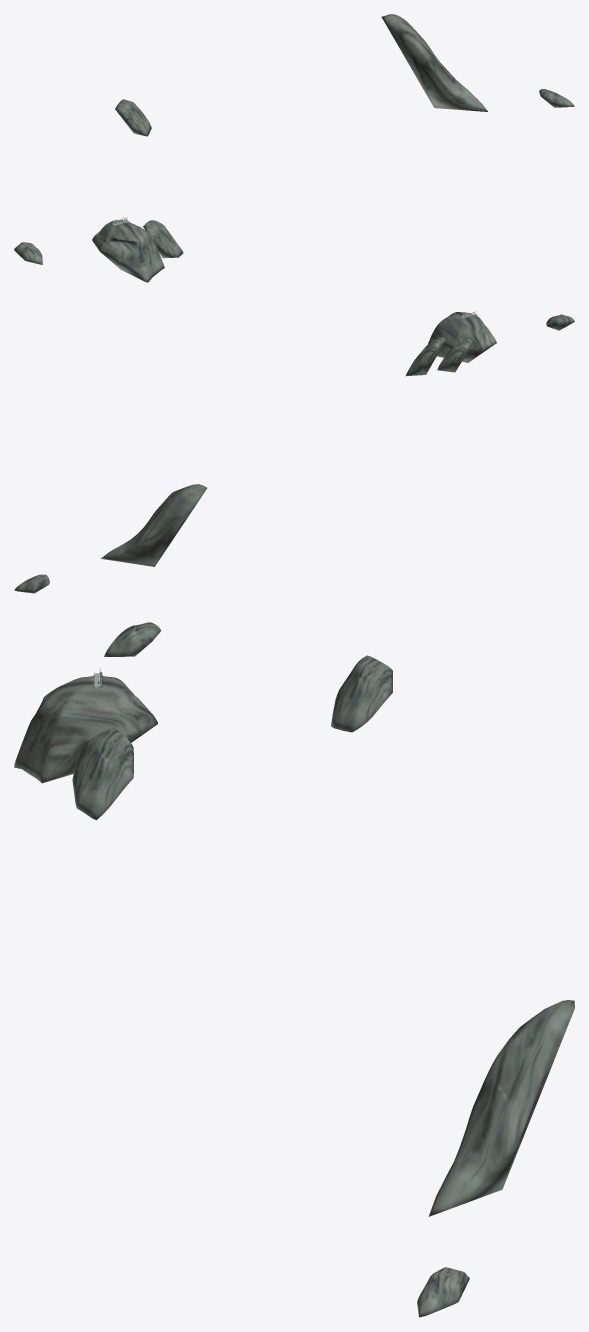
3 views of the same model, one above another, from view 1: azimuth 30°, elevation 25°; view 2: azimuth 210°, elevation 25°; view 3: azimuth 270°, elevation 25° (orthographic). The views are drawn at different scales.
Parts seen in each view (by area): view 1: co-to-sign-and-granite; view 2: co-to-sign-and-granite; view 3: co-to-sign-and-granite.
Part boxes in pixels (x1,y1,x2,y2): co-to-sign-and-granite: (14,14,574,282); co-to-sign-and-granite: (14,311,574,593); co-to-sign-and-granite: (14,622,574,1317).
Size of the model in its own units: 1582 by 309 by 654.
1 material, 1 textured.
